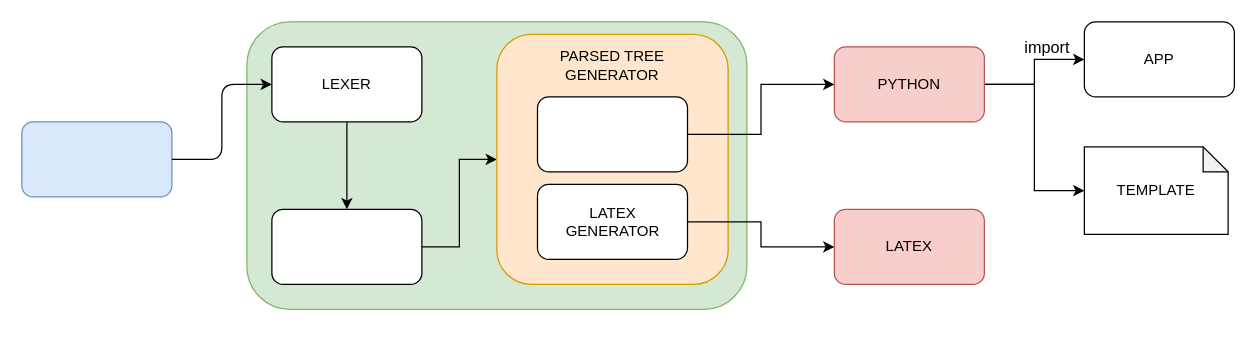
Some shapes in this 1256 by 341 pixel diagram are drawn without their labels. Here are the shapes that lost their labels. From the top down, the centre of each, then its label:
At point 612,134: "PYTHON GENERATOR".
At point 96,159: "DSL - Specification".
At point 346,246: "PARSER".
